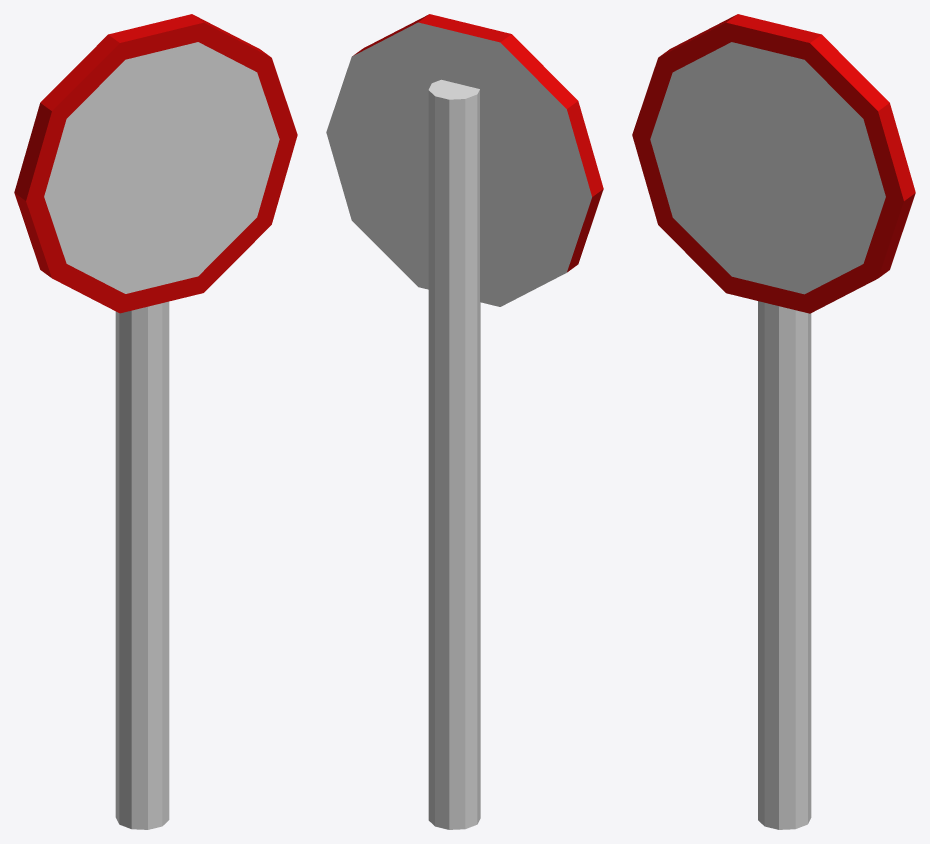
Rendered from Street Sign 2.fbx.
3 renders of one model, left to right at view 1: azimuth 30°, elevation 25°; view 2: azimuth 150°, elevation 25°; view 3: azimuth 330°, elevation 25°, orthographic. The views are drawn at different scales.
Visible parts, largest first — view 1: Street_Sign_2; view 2: Street_Sign_2; view 3: Street_Sign_2.
Boxes of the visible parts, x1,y1,x2,y2 form: Street_Sign_2: (14, 14, 297, 829); Street_Sign_2: (326, 14, 603, 829); Street_Sign_2: (632, 14, 915, 829).
Size of the model in its own units: 41.12 by 116 by 8.04.
1 material, 1 textured.
